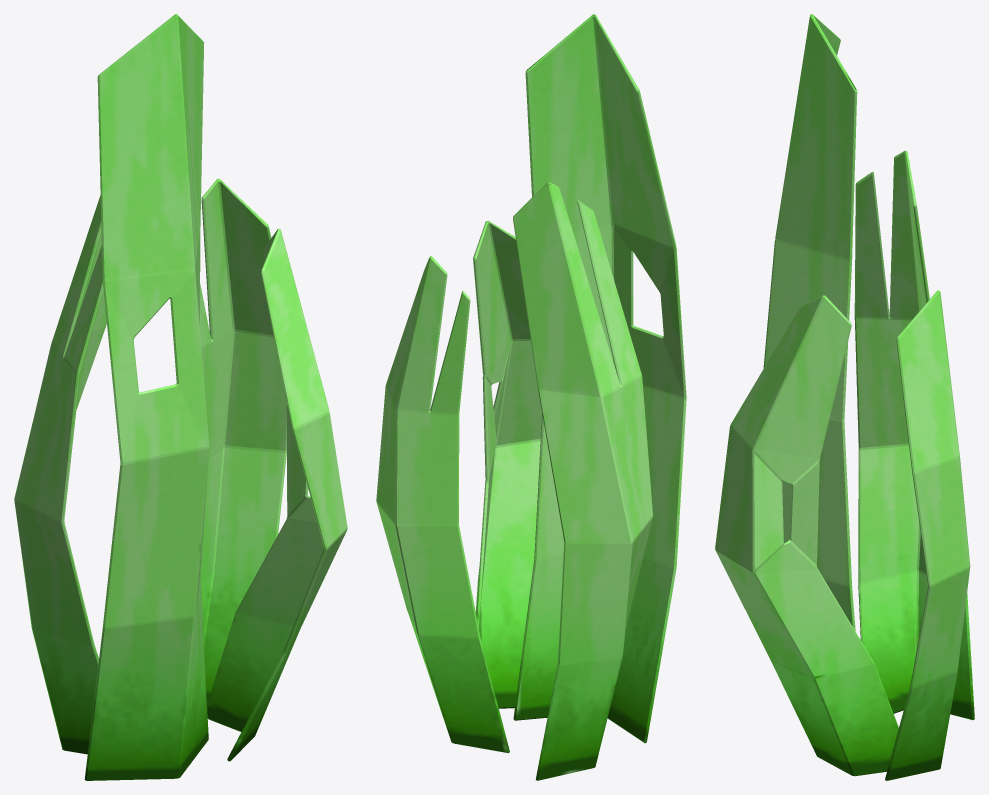
File: SeaGrass2.fbx
3 renders of one model, left to right at view 1: azimuth 30°, elevation 25°; view 2: azimuth 150°, elevation 25°; view 3: azimuth 270°, elevation 25°, orthographic. The views are drawn at different scales.
Visible parts, largest first — view 1: SeaGrass2; view 2: SeaGrass2; view 3: SeaGrass2.
Boxes of the visible parts, x1,y1,x2,y2 form: SeaGrass2: (14, 14, 347, 780); SeaGrass2: (376, 14, 686, 780); SeaGrass2: (715, 14, 974, 780).
Bounding box in the file's own units: 15.81 × 41.96 × 13.78.
